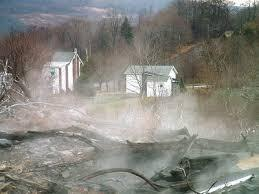smoke: (85, 80, 242, 194)
